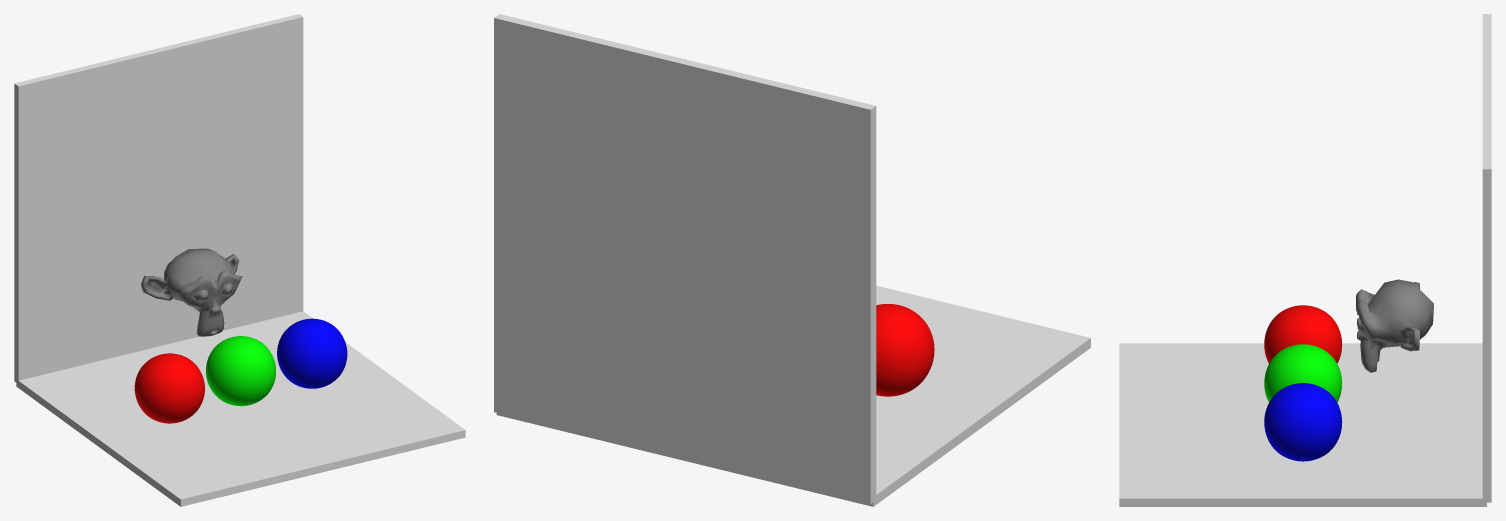
File: ReflectionTest.glb
The picture shows the model from 3 angles, left to right: view 1: azimuth 30°, elevation 25°; view 2: azimuth 150°, elevation 25°; view 3: azimuth 270°, elevation 25°; orthographic projection. The views are drawn at different scales.
Parts seen in each view (by area): view 1: Mirror_ground, Mirror_ground.001, Suzanne, Sphere_blue, Sphere_red, Sphere_green; view 2: Mirror_ground, Mirror_ground.001, Sphere_red; view 3: Mirror_ground.001, Sphere_blue, Suzanne, Mirror_ground, Sphere_red, Sphere_green.
Part boxes in pixels (x1,y1,x2,y2): Mirror_ground: [14, 14, 303, 383]; Mirror_ground.001: [16, 311, 465, 506]; Suzanne: [141, 248, 242, 336]; Sphere_blue: [277, 318, 347, 388]; Sphere_red: [134, 353, 204, 423]; Sphere_green: [206, 336, 275, 406]; Mirror_ground: [494, 14, 876, 503]; Mirror_ground.001: [496, 285, 1090, 506]; Sphere_red: [876, 304, 934, 396]; Mirror_ground.001: [1119, 343, 1486, 506]; Sphere_blue: [1264, 383, 1342, 461]; Suzanne: [1356, 279, 1433, 372]; Mirror_ground: [1482, 14, 1491, 502]; Sphere_red: [1264, 305, 1342, 363]; Sphere_green: [1264, 344, 1342, 402].
Bounding box in the file's own units: 8 × 8.1 × 8.1.
